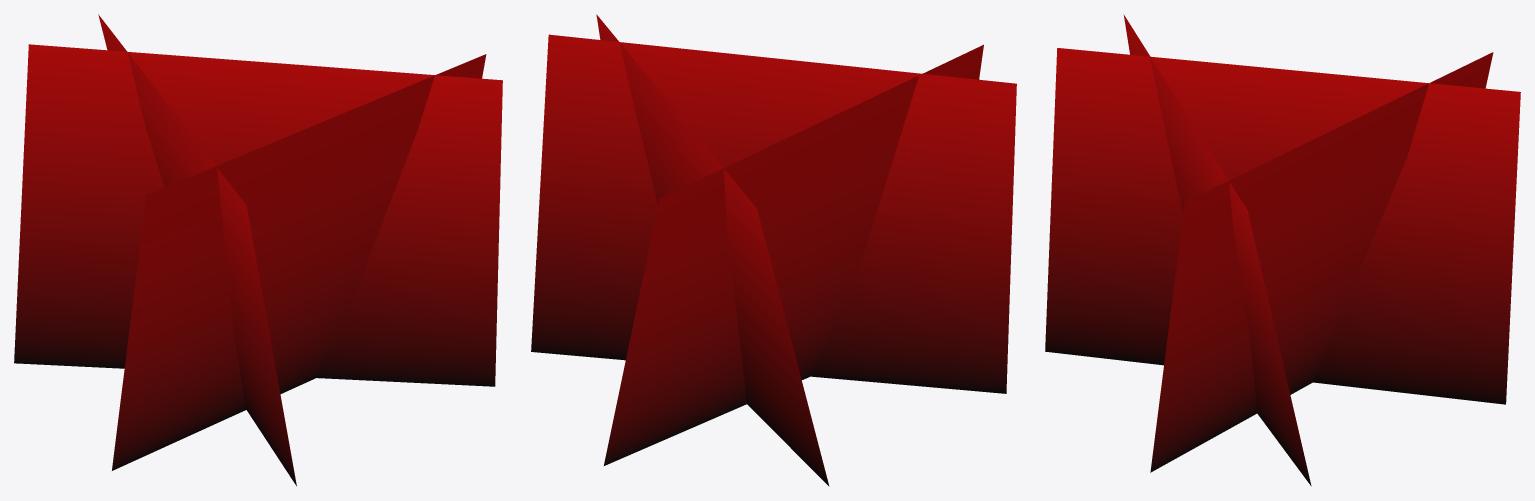
Rendered from Fur1.FBX.
The picture shows the model from 3 angles, left to right: view 1: azimuth 30°, elevation 25°; view 2: azimuth 150°, elevation 25°; view 3: azimuth 270°, elevation 25°; orthographic projection. The views are drawn at different scales.
Visible parts, largest first — view 1: SingleFur; view 2: SingleFur; view 3: SingleFur.
Boxes of the visible parts, bbox=[...] form: SingleFur: bbox=[14, 14, 502, 486]; SingleFur: bbox=[531, 14, 1016, 486]; SingleFur: bbox=[1045, 14, 1520, 486].
Bounding box in the file's own units: 1.1 × 0.7358 × 1.11.
